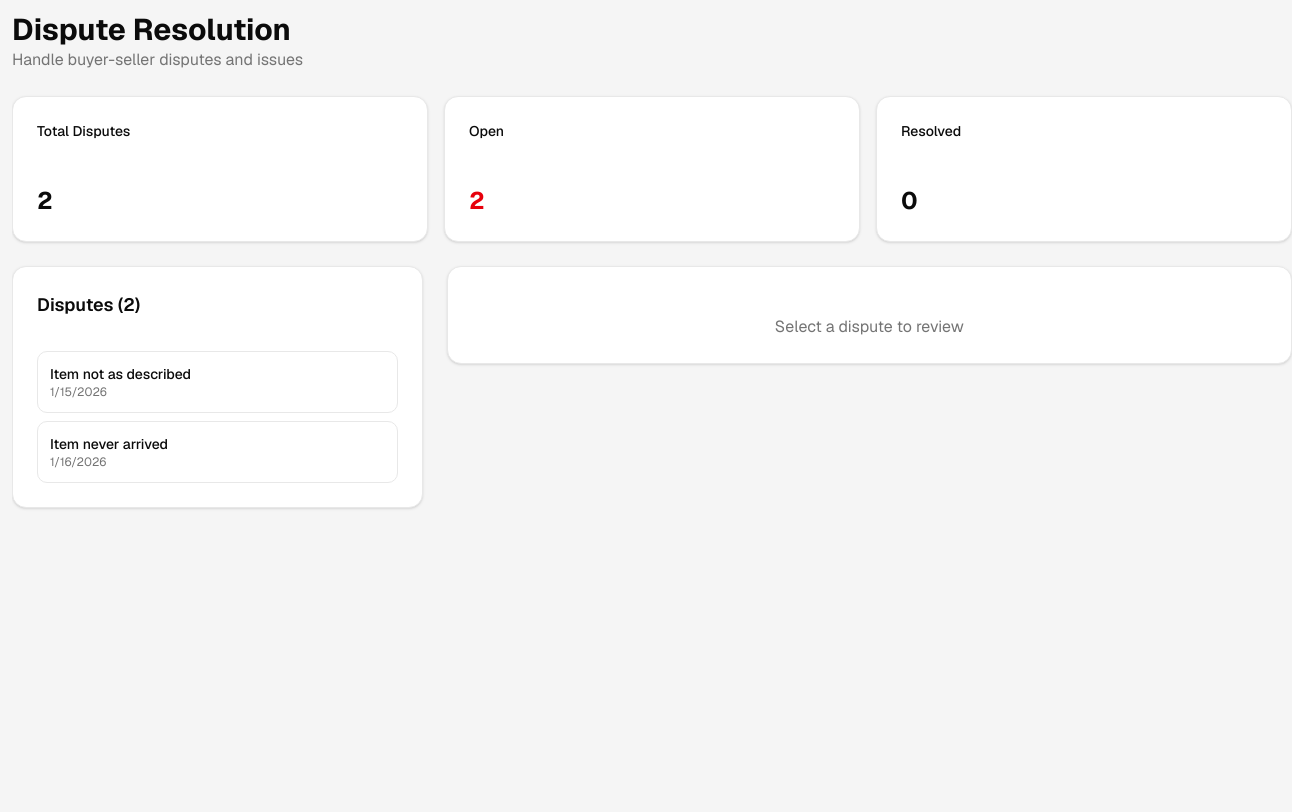
Test case: DisputesPage › Test Case 4: Resolves disputes and refreshes list › should clear selected dispute and notes after resolution
Select dispute and add notes
Click the text "Item not as described" at point(121, 374), box top-left (50, 365), bottom-right (191, 383)
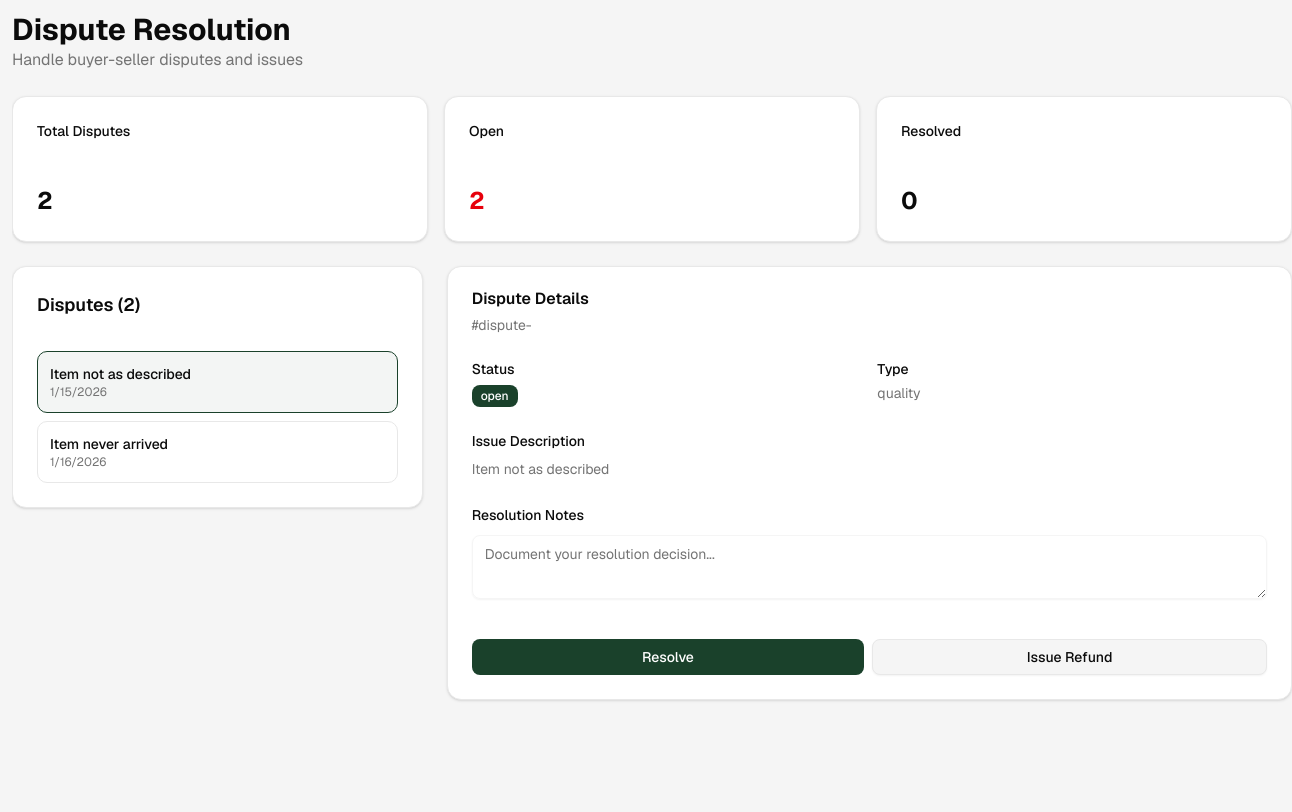
Type "Test notes" into the text box with placeholder "Document your resolution decision..." at point(869, 567), box top-left (472, 535), bottom-right (1267, 599)
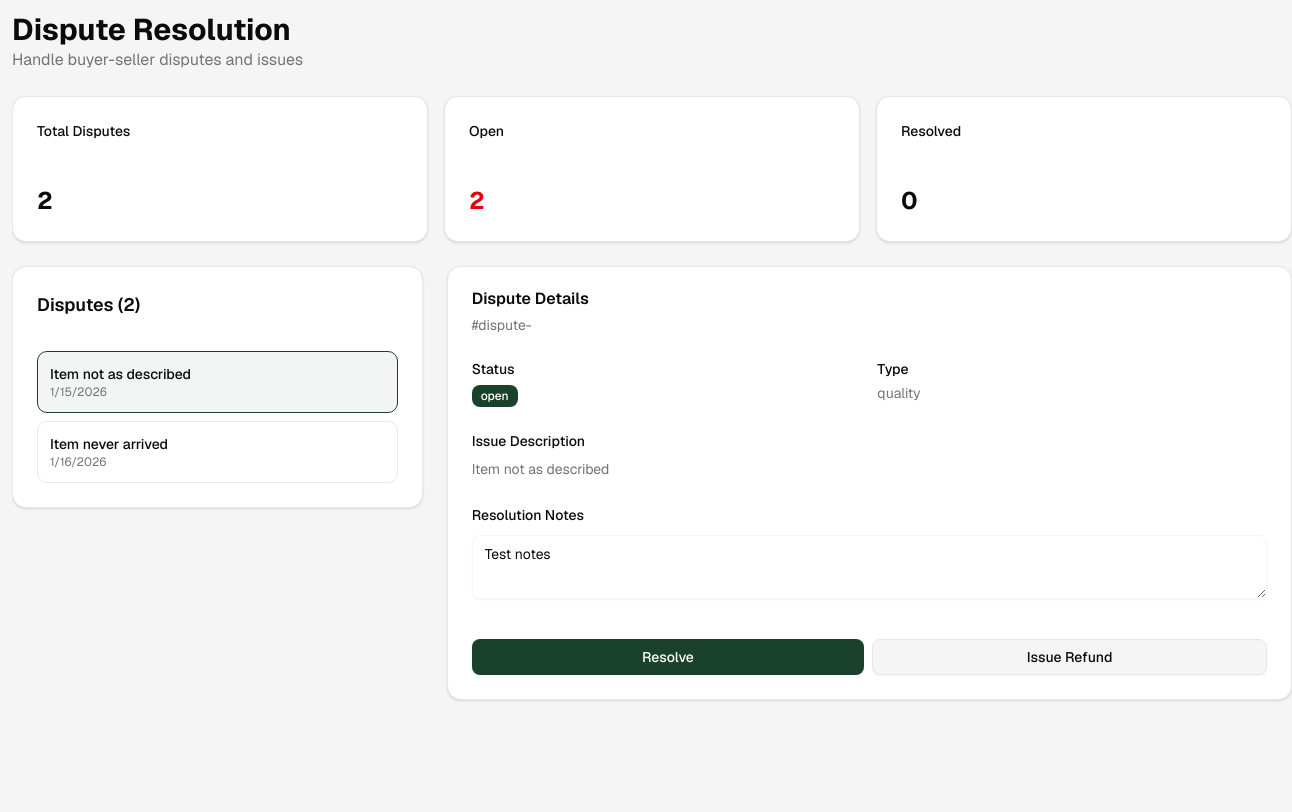
Click the button "Resolve" at point(668, 657), box top-left (472, 639), bottom-right (864, 675)
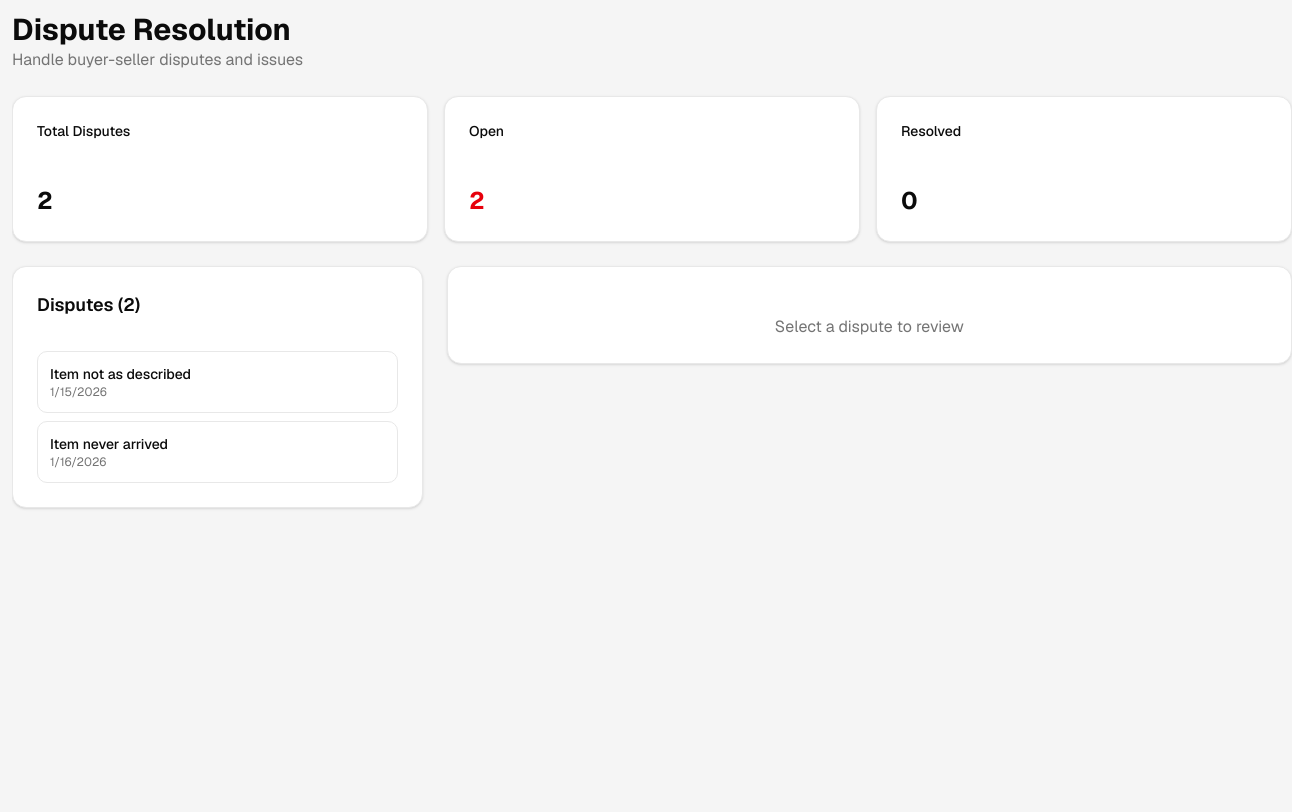
expect the text "Select a dispute to review" is shown: met, box top-left (775, 316), bottom-right (964, 337)
